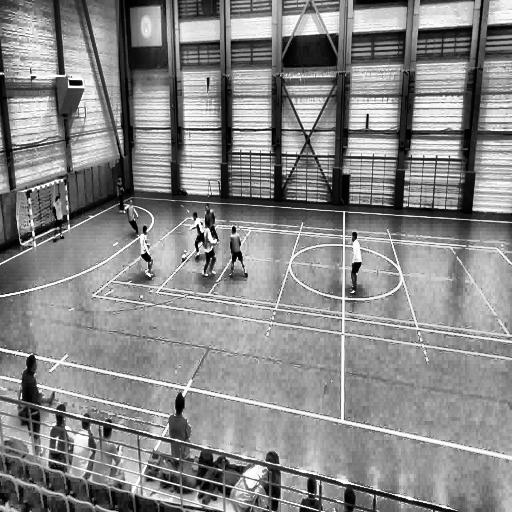ball: (182, 250, 186, 266)
player: (18, 356, 53, 458), (202, 219, 219, 278), (190, 212, 210, 262), (228, 224, 246, 278), (203, 202, 222, 248), (349, 230, 362, 296), (140, 223, 154, 279), (123, 198, 139, 239), (53, 195, 66, 243), (116, 173, 126, 216)
